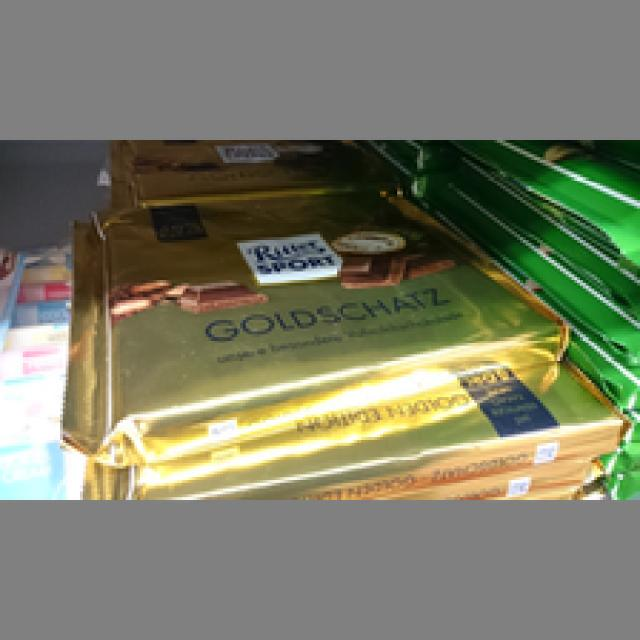groceries: (71, 186, 566, 423)
